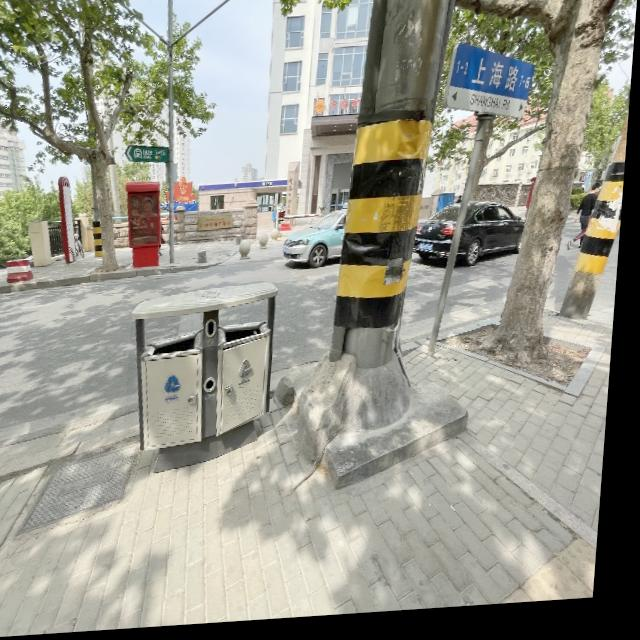garbage_bin: (128, 282, 283, 478)
